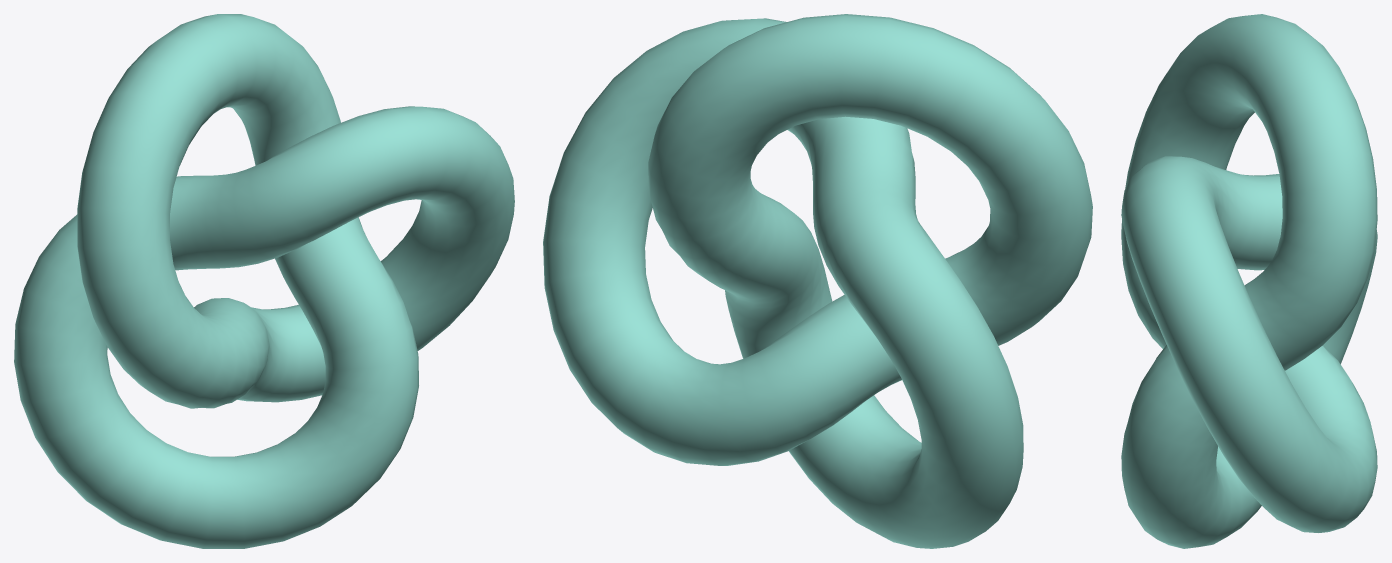
The model's file is wave-sculpture.glb.
3 renders of one model, left to right at view 1: azimuth 30°, elevation 25°; view 2: azimuth 150°, elevation 25°; view 3: azimuth 270°, elevation 25°, orthographic. The views are drawn at different scales.
Parts seen in each view (by area): view 1: Wave sculpture; view 2: Wave sculpture; view 3: Wave sculpture.
Part boxes in pixels (x1,y1,x2,y2): Wave sculpture: (14, 14, 514, 548); Wave sculpture: (543, 14, 1092, 548); Wave sculpture: (1121, 14, 1377, 548).
Size of the model in its own units: 3.33 by 3.48 by 1.62.
